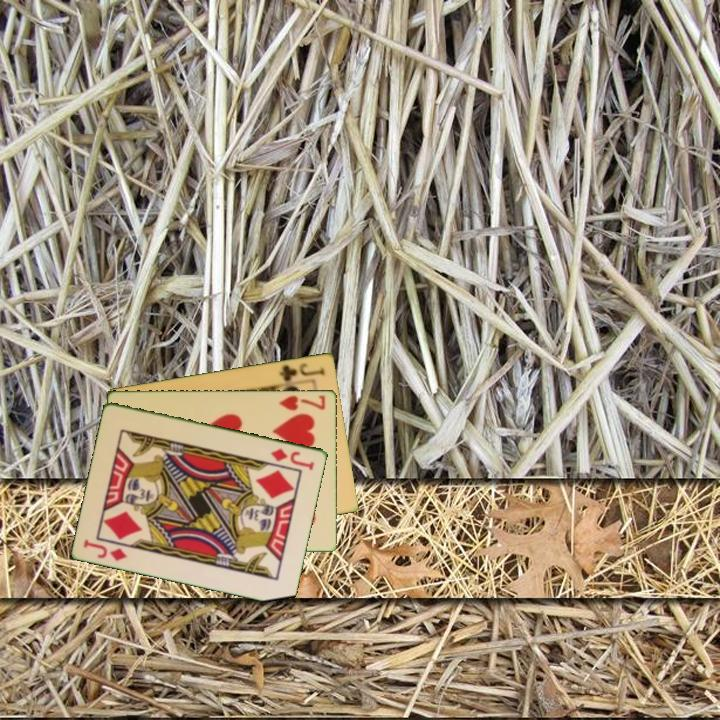7h: (276, 392, 328, 413)
Jc: (276, 359, 328, 384)
Jd: (267, 444, 317, 473), (80, 536, 131, 564)
